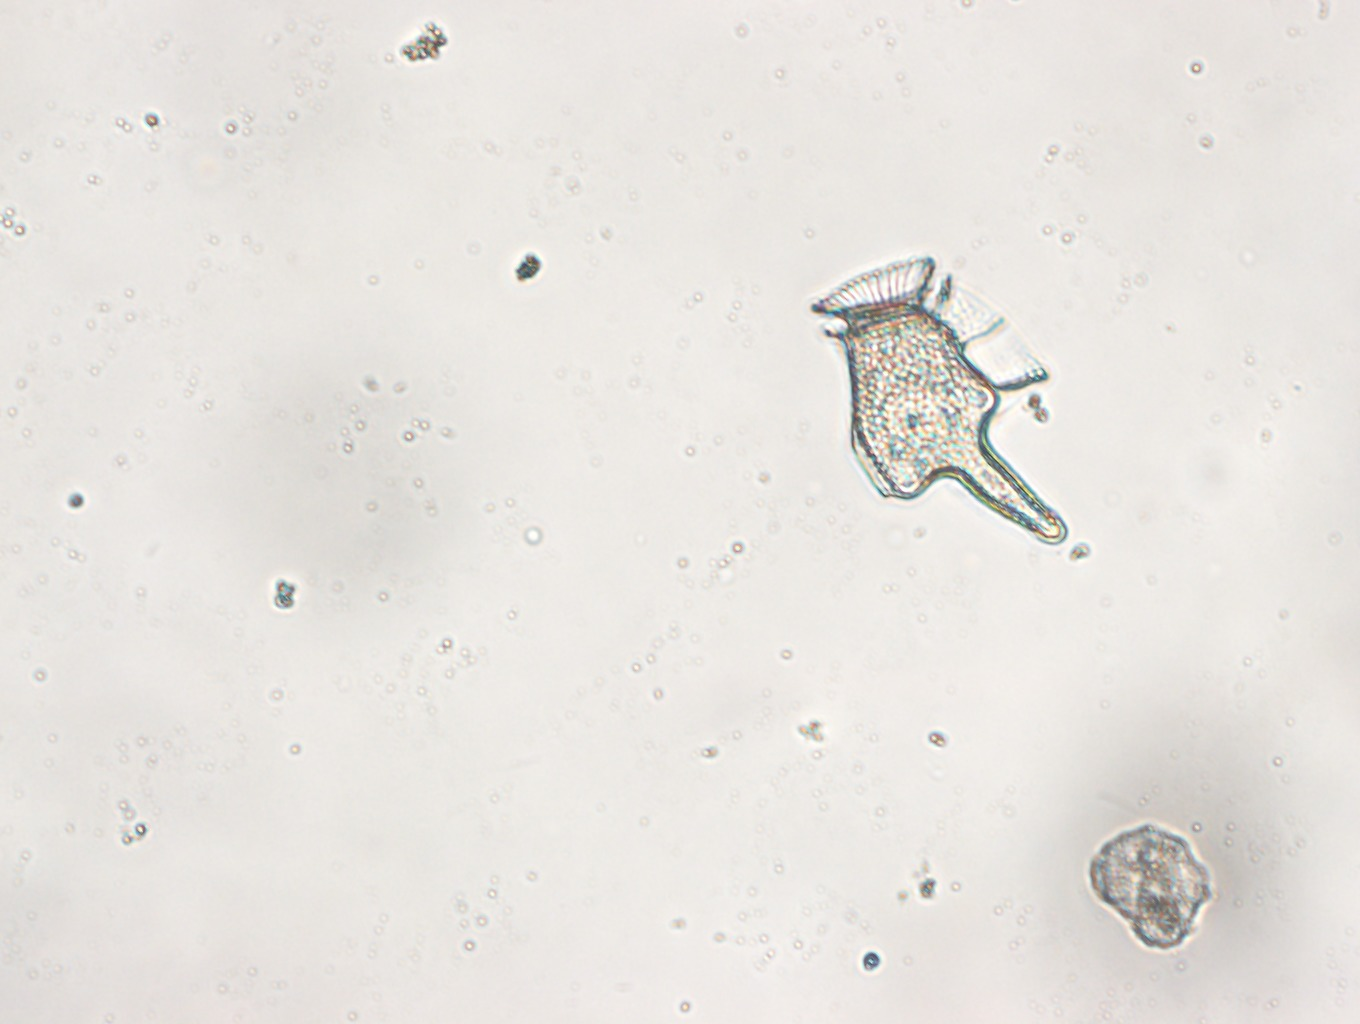dinophysis caudata: (807, 247, 1072, 547)
